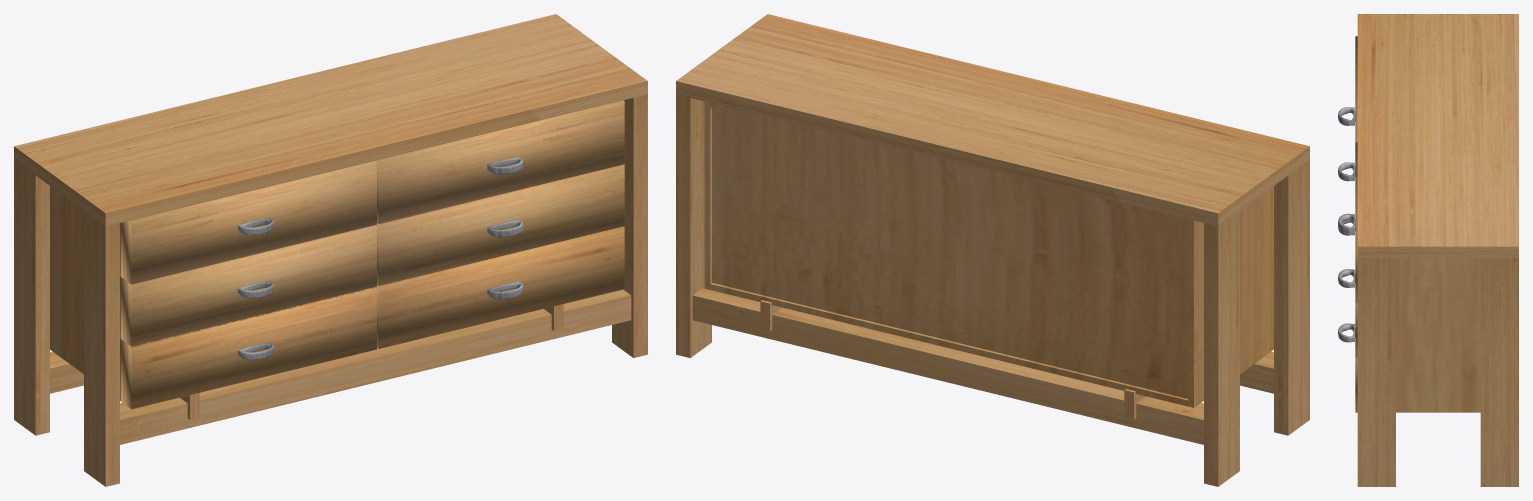
Rendered from comoda.glb.
The picture shows the model from 3 angles, left to right: view 1: azimuth 30°, elevation 25°; view 2: azimuth 150°, elevation 25°; view 3: azimuth 270°, elevation 25°; orthographic projection. The views are drawn at different scales.
Parts seen in each view (by area): view 1: Cube.001, cajon, cajon.004, cajon.005, cajon.001, cajon.003, cajon.002; view 2: Cube.001; view 3: Cube.001, cajon.001, cajon, cajon.003, cajon.002, cajon.005.
Part boxes in pixels (left/top/right/bottom): Cube.001: left=14, top=14, right=647, bottom=486; cajon: left=120, top=160, right=376, bottom=284; cajon.004: left=120, top=286, right=376, bottom=409; cajon.005: left=120, top=224, right=376, bottom=347; cajon.001: left=376, top=100, right=624, bottom=223; cajon.003: left=377, top=226, right=624, bottom=348; cajon.002: left=377, top=164, right=624, bottom=285; Cube.001: left=676, top=14, right=1309, bottom=486; Cube.001: left=1357, top=14, right=1518, bottom=486; cajon.001: left=1338, top=142, right=1357, bottom=302; cajon: left=1338, top=36, right=1357, bottom=142; cajon.003: left=1338, top=323, right=1357, bottom=412; cajon.002: left=1338, top=269, right=1357, bottom=358; cajon.005: left=1338, top=162, right=1355, bottom=181.
Bounding box in the file's own units: 7.07 × 3.41 × 2.32.
3 materials, 3 textured.
